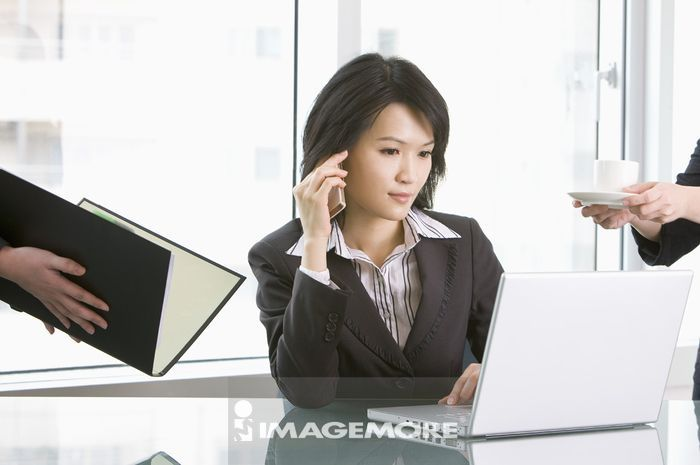talk: (292, 131, 433, 254)
